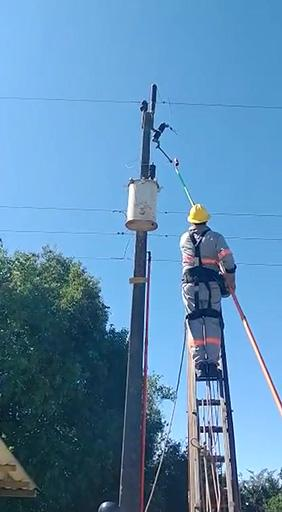Vara_Manobra: (174, 167, 282, 415)
